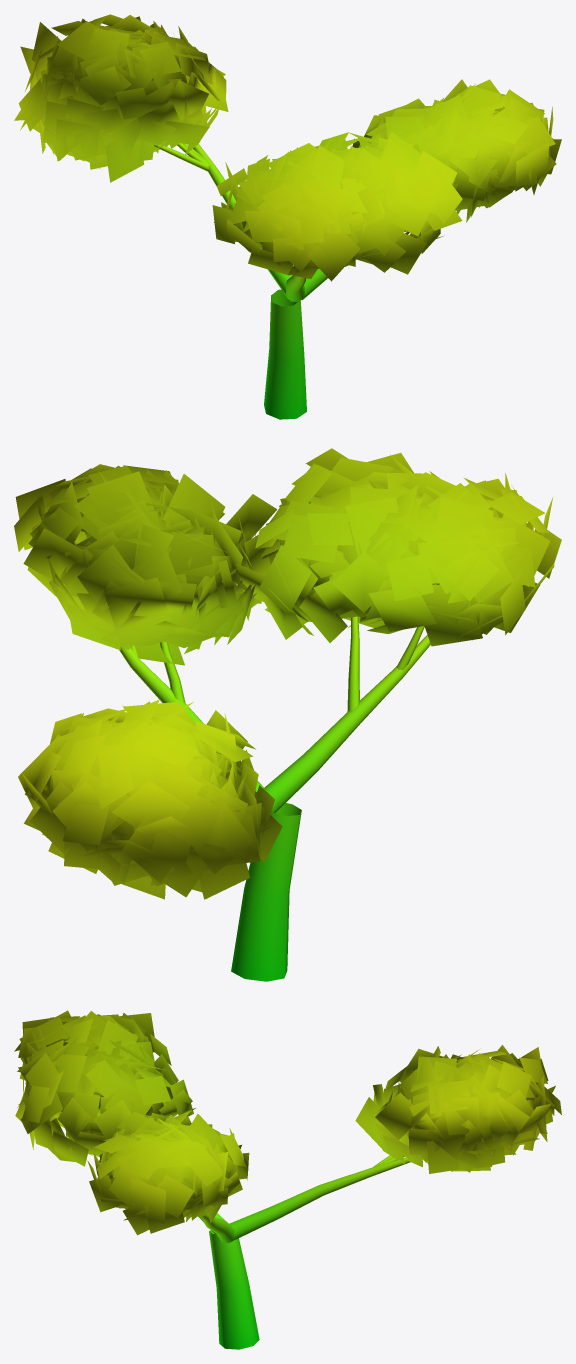
File: sakura_b.glb
The picture shows the model from 3 angles, top to bottom: view 1: azimuth 30°, elevation 25°; view 2: azimuth 150°, elevation 25°; view 3: azimuth 270°, elevation 25°; orthographic projection. The views are drawn at different scales.
Visible parts, largest first — view 1: sakura_b; view 2: sakura_b; view 3: sakura_b.
Boxes of the visible parts, x1,y1,x2,y2 form: sakura_b: (14, 14, 561, 419); sakura_b: (14, 448, 561, 981); sakura_b: (14, 1010, 561, 1349).
Bounding box in the file's own units: 6.09 × 5.3 × 8.64.
